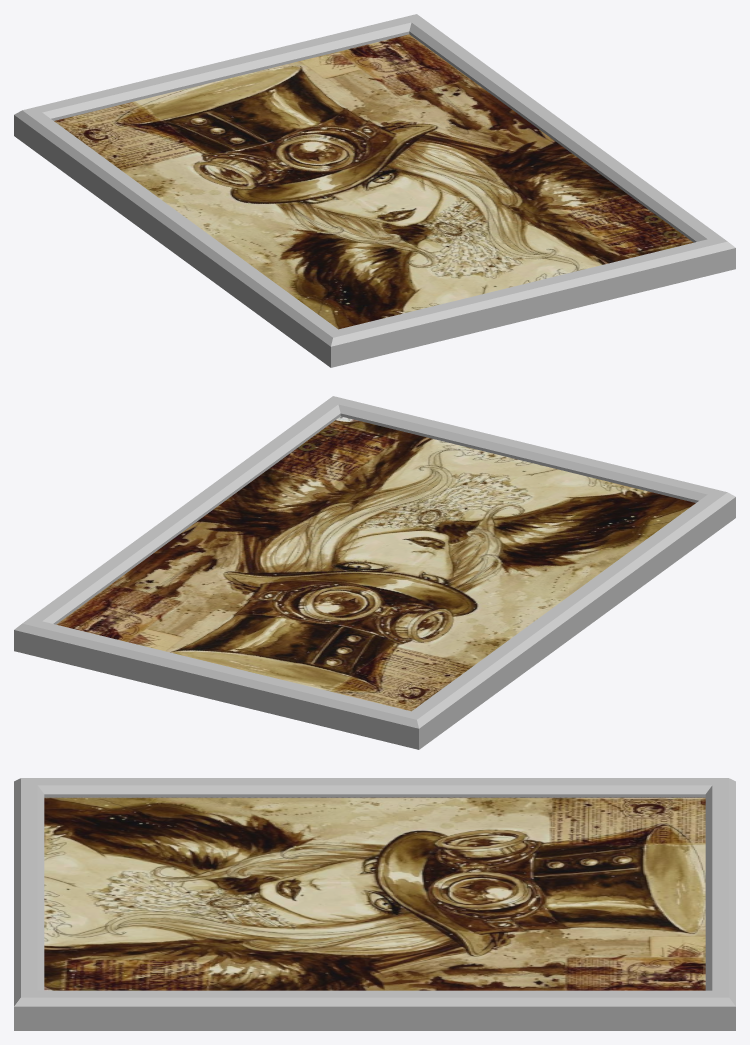
File: tableau2.fbx
3 views of the same model, one above another, from view 1: azimuth 30°, elevation 25°; view 2: azimuth 150°, elevation 25°; view 3: azimuth 270°, elevation 25° (orthographic). The views are drawn at different scales.
Parts seen in each view (by area): view 1: Cube; view 2: Cube; view 3: Cube.
Boxes of the visible parts, left/top/right/bottom form: Cube: left=14, top=14, right=735, bottom=367; Cube: left=14, top=396, right=735, bottom=749; Cube: left=14, top=778, right=735, bottom=1030.
Bounding box in the file's own units: 68.69 × 4.32 × 93.07.
